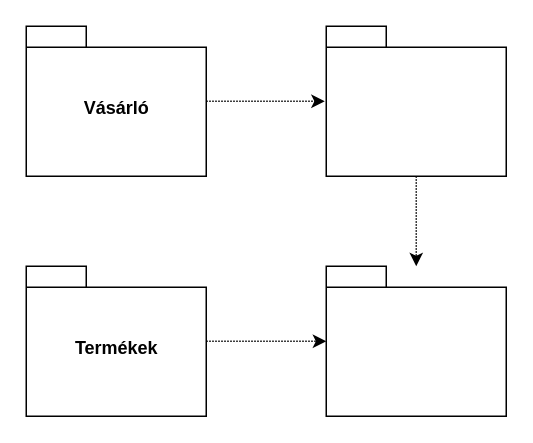
The diagram is 533 pixels wide and 443 high, and some of its shapes have lost their labels. The shapes that lost their labels are listed below. From the top down, each one's centre as x and y in pixels, then its label:
At point (415, 100): "Fizetés".
At point (415, 340): "Kosár".
